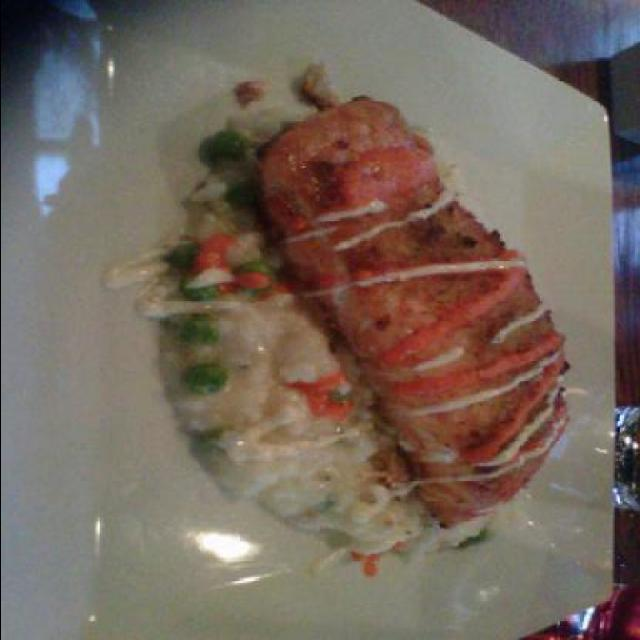Risotto: (156, 272, 396, 576)
